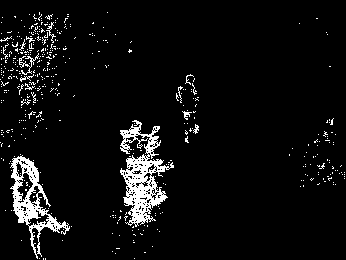person: (8, 154, 70, 260), (176, 73, 202, 145)
